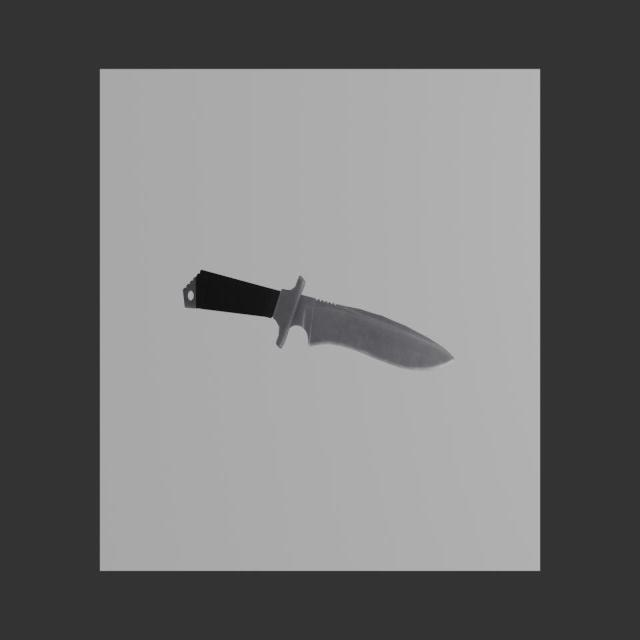knife: (183, 270, 280, 318)
